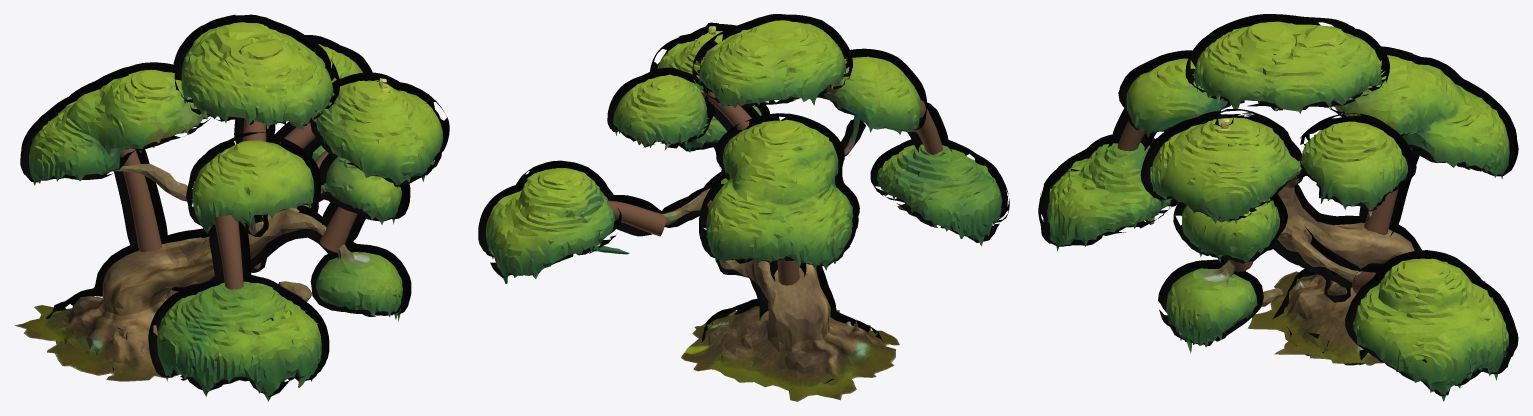
File: Ghibli_Tree_I.glb
The picture shows the model from 3 angles, left to right: view 1: azimuth 30°, elevation 25°; view 2: azimuth 150°, elevation 25°; view 3: azimuth 270°, elevation 25°; orthographic projection. The views are drawn at different scales.
Visible parts, largest first — view 1: TreeI, TreeI_OutlineHull; view 2: TreeI, TreeI_OutlineHull; view 3: TreeI, TreeI_OutlineHull.
Boxes of the visible parts, x1,y1,x2,y2 form: TreeI: (14,22,443,401); TreeI_OutlineHull: (20,14,449,397); TreeI: (485,20,1002,401); TreeI_OutlineHull: (478,14,1009,383); TreeI: (1047,21,1509,401); TreeI_OutlineHull: (1038,14,1518,396).
Bounding box in the file's own units: 1.96 × 1.44 × 1.9.
3 materials, 1 textured.
